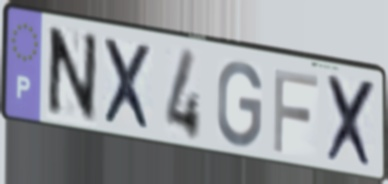4: (162, 46, 205, 146)
F: (270, 65, 320, 156)
G: (214, 58, 265, 151)
N: (43, 24, 100, 127)
X: (100, 35, 156, 137), (325, 71, 379, 174)
